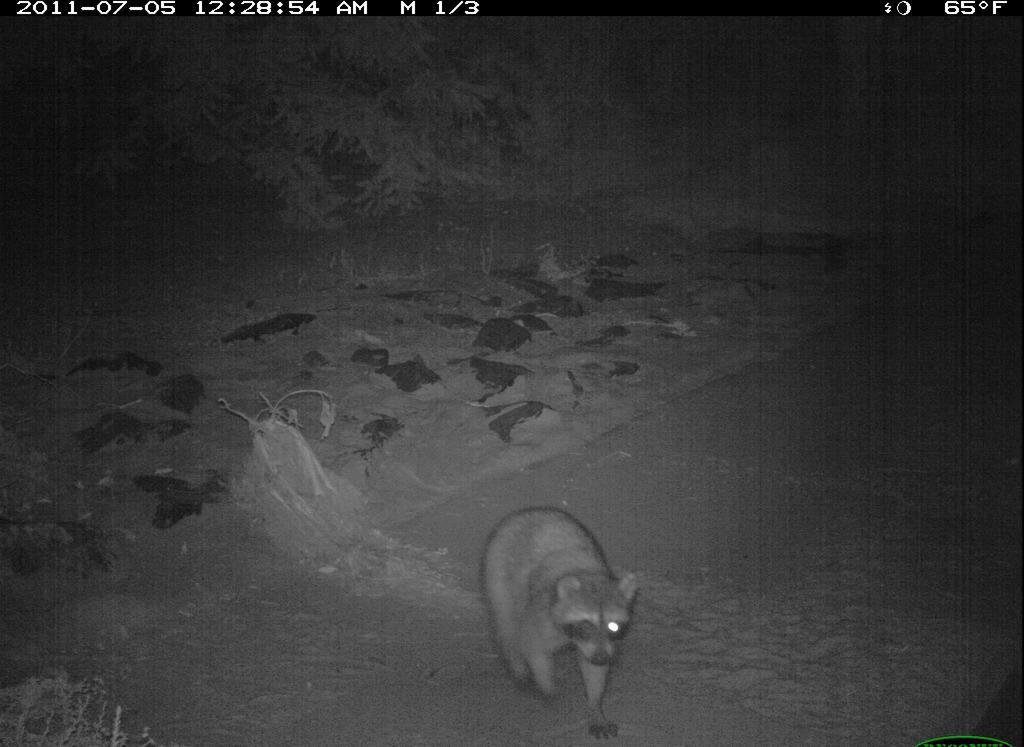raccoon: (469, 502, 651, 747)
